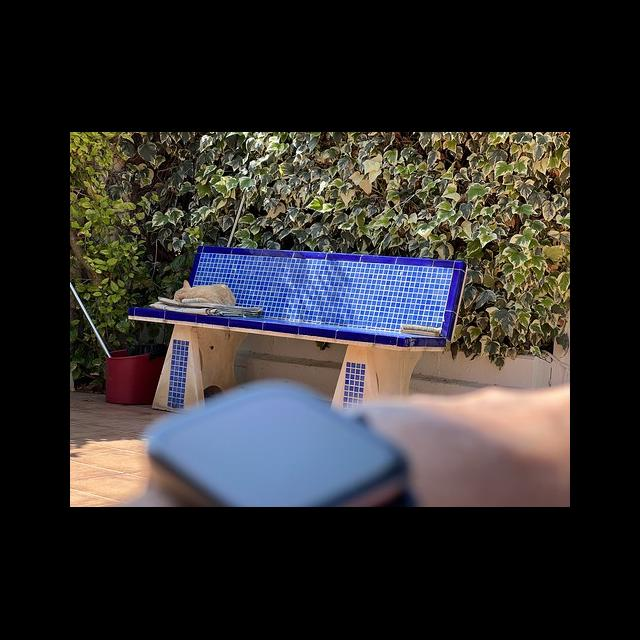animals: (168, 279, 237, 309)
